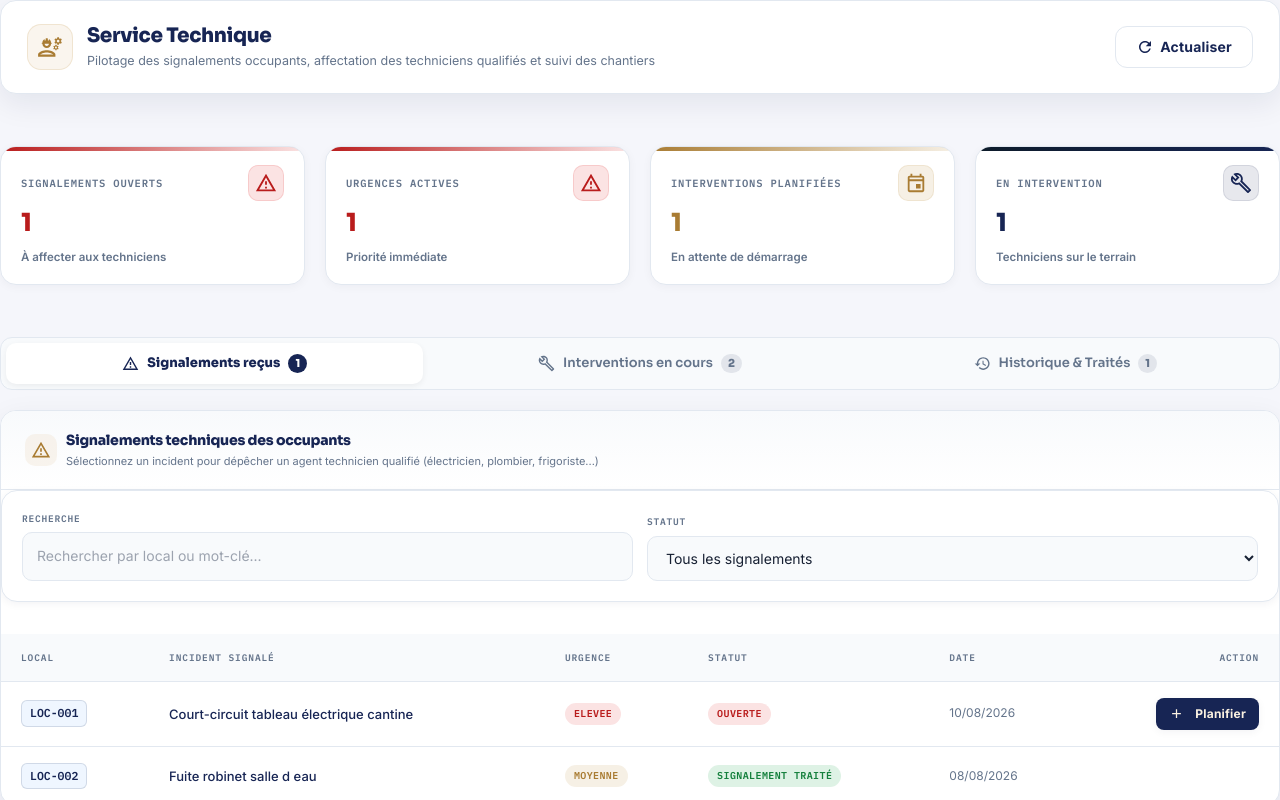
Test: ServiceTechniqueView › ouvre la modale avec la liste des techniciens et leurs spécialités et disponibilités
The image size is (1280, 800).
Click the button "Planifier": (1208, 714) [1156,698,1259,730]
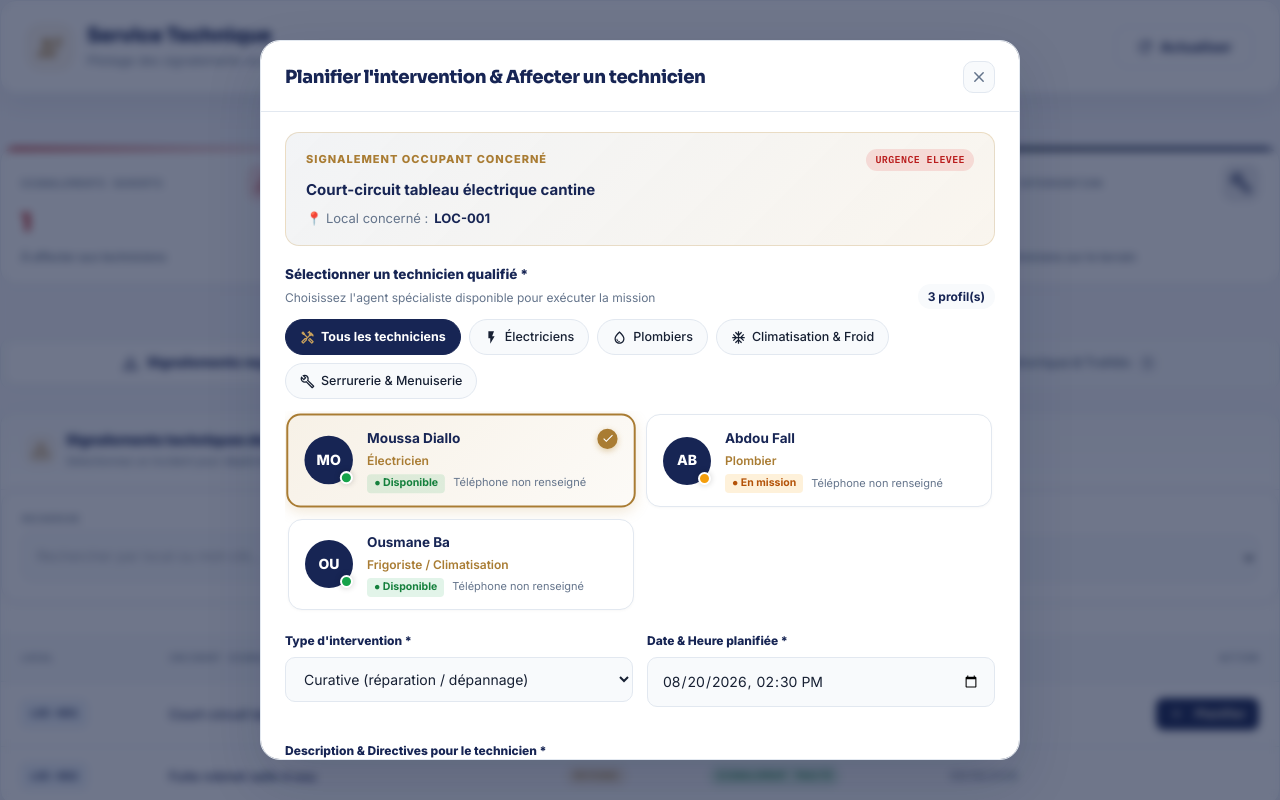
Check: the text "Sélectionner un technicien qualifié *" is shown, box [285,266,528,282]
Check: the text "Moussa Diallo" is shown, box [367,428,460,450]
Check: the text "Abdou Fall" is shown, box [725,428,795,450]
